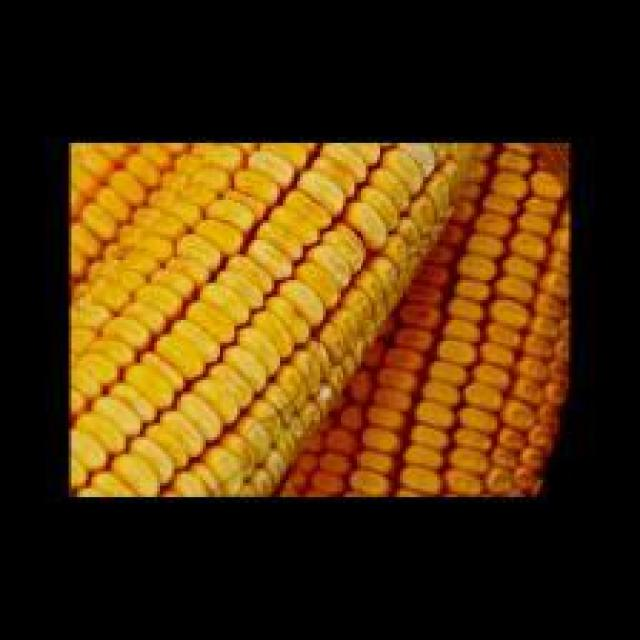corn: (63, 143, 560, 497)
